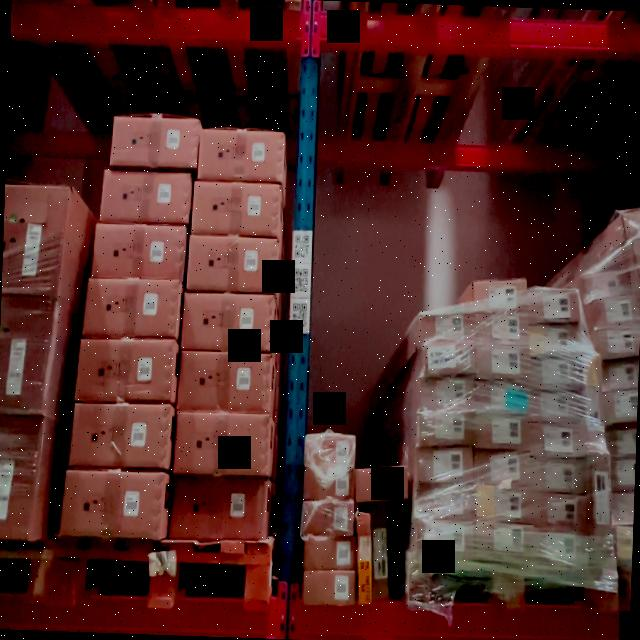box: (73, 406, 165, 472), (64, 473, 159, 532), (172, 476, 264, 534), (182, 296, 272, 354), (175, 416, 266, 473), (78, 341, 172, 396), (179, 358, 269, 411), (188, 242, 276, 294), (86, 284, 176, 334), (94, 228, 182, 278), (200, 128, 284, 178), (193, 187, 280, 235), (102, 175, 188, 222), (113, 118, 196, 163), (418, 449, 472, 484), (414, 524, 472, 556), (531, 456, 583, 489), (478, 344, 528, 378), (478, 454, 528, 488), (418, 492, 472, 523), (302, 570, 354, 602), (472, 386, 524, 417), (476, 418, 528, 449), (424, 342, 474, 374), (476, 491, 526, 523), (532, 426, 582, 458), (530, 290, 578, 322), (532, 497, 583, 527), (301, 539, 353, 568), (418, 417, 468, 447), (531, 362, 581, 392), (532, 395, 582, 425), (355, 516, 372, 602), (531, 327, 582, 355), (353, 472, 407, 498), (421, 382, 471, 410), (478, 526, 526, 555), (307, 432, 353, 462), (420, 312, 473, 338), (305, 506, 352, 534), (304, 471, 352, 498), (530, 533, 584, 557), (478, 314, 526, 339), (477, 282, 526, 306)
